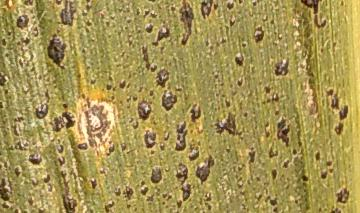tarspot: (82, 101, 113, 149), (298, 1, 329, 31), (213, 109, 245, 136), (59, 168, 78, 213), (177, 1, 195, 47), (194, 151, 214, 184), (46, 36, 68, 65), (172, 119, 190, 153), (274, 114, 291, 149), (58, 1, 78, 27), (149, 25, 171, 48), (69, 167, 83, 203), (159, 87, 178, 112), (173, 161, 190, 187), (136, 97, 153, 121), (153, 67, 171, 89), (273, 55, 291, 77), (186, 139, 202, 162), (139, 45, 152, 73), (58, 111, 77, 130), (142, 128, 158, 150), (334, 185, 351, 205), (187, 102, 202, 124), (251, 21, 265, 44), (50, 114, 66, 134), (148, 164, 164, 184), (34, 102, 50, 121), (199, 1, 215, 20), (178, 181, 193, 201), (265, 140, 280, 160), (1, 177, 13, 201), (258, 92, 280, 105), (15, 13, 30, 31), (231, 50, 246, 68), (121, 183, 135, 201), (27, 151, 43, 166), (101, 197, 116, 213), (329, 92, 341, 112), (337, 102, 349, 121), (265, 193, 280, 207), (14, 139, 30, 152), (10, 124, 24, 137), (333, 121, 345, 136), (203, 191, 212, 210), (323, 85, 336, 98), (55, 153, 67, 167), (279, 156, 291, 170), (88, 176, 99, 190), (75, 141, 89, 152), (263, 121, 271, 139), (12, 165, 23, 178), (111, 184, 122, 197), (234, 74, 245, 87), (247, 150, 256, 165), (167, 2, 178, 14), (262, 83, 273, 95), (299, 171, 310, 183), (319, 168, 330, 180), (228, 14, 237, 28), (253, 191, 264, 202), (43, 88, 51, 103), (41, 172, 51, 184), (54, 144, 66, 154), (144, 22, 154, 34), (149, 62, 159, 74), (224, 1, 236, 11), (1, 71, 8, 87), (235, 173, 243, 187), (329, 205, 343, 213), (105, 145, 115, 156), (118, 78, 127, 90), (330, 39, 337, 54), (31, 25, 39, 38), (269, 167, 277, 180), (21, 36, 31, 46), (98, 166, 108, 176), (135, 84, 145, 94), (28, 61, 37, 72), (30, 176, 39, 187), (139, 186, 148, 197), (148, 11, 159, 20), (314, 148, 321, 162), (223, 96, 231, 108), (12, 116, 25, 123), (5, 142, 15, 151), (26, 195, 35, 205), (131, 120, 140, 130), (142, 9, 151, 19), (145, 193, 155, 202), (174, 198, 183, 208), (196, 124, 205, 134), (239, 201, 248, 211), (46, 182, 54, 193), (158, 44, 166, 55), (158, 141, 166, 152), (162, 130, 170, 141), (240, 39, 248, 50), (2, 160, 11, 169), (1, 200, 10, 209), (89, 76, 98, 85), (79, 9, 88, 18), (219, 35, 228, 44), (119, 142, 127, 152), (261, 13, 269, 23), (295, 138, 303, 148), (17, 57, 24, 68), (83, 18, 92, 26), (212, 2, 220, 11), (246, 9, 254, 18), (1, 37, 8, 47), (20, 1, 34, 6), (103, 19, 110, 29), (116, 28, 123, 38), (174, 86, 184, 93), (147, 148, 157, 155), (273, 107, 280, 117), (86, 96, 91, 109), (54, 26, 62, 34), (22, 177, 30, 185), (108, 93, 116, 101), (162, 164, 170, 172), (238, 189, 246, 197), (292, 197, 300, 205), (37, 206, 46, 213), (90, 35, 97, 44), (110, 84, 117, 93), (132, 93, 139, 102), (224, 146, 231, 155), (271, 206, 280, 213), (291, 147, 298, 156), (105, 81, 111, 91), (251, 1, 261, 7), (5, 30, 13, 37), (48, 135, 55, 143), (75, 71, 82, 79), (108, 13, 116, 20), (122, 24, 130, 31), (107, 73, 114, 81), (125, 102, 132, 110), (242, 110, 249, 118), (206, 121, 214, 128), (277, 33, 284, 41), (272, 39, 279, 47), (325, 160, 333, 167), (327, 167, 334, 175), (140, 179, 146, 188), (85, 26, 91, 35), (125, 94, 131, 103), (198, 197, 204, 206), (318, 46, 324, 55), (135, 6, 140, 16), (3, 51, 10, 58), (61, 102, 68, 109), (107, 139, 114, 146), (125, 202, 132, 209), (79, 47, 86, 54), (85, 4, 92, 11), (99, 12, 106, 19), (125, 82, 132, 89), (182, 95, 189, 102), (238, 134, 245, 141), (269, 18, 276, 25), (255, 175, 262, 182), (315, 206, 322, 213), (37, 74, 43, 82), (80, 91, 86, 99), (89, 205, 95, 213), (125, 18, 133, 24), (148, 89, 154, 97), (136, 27, 142, 35), (153, 185, 161, 191), (203, 39, 209, 47), (228, 81, 234, 89), (246, 178, 252, 186), (337, 1, 345, 7), (15, 39, 21, 46), (59, 64, 66, 70), (3, 88, 9, 95), (13, 207, 20, 213), (85, 63, 91, 70), (128, 116, 134, 123), (213, 72, 219, 79), (237, 165, 244, 171), (248, 146, 255, 152), (22, 208, 30, 213), (165, 194, 173, 199), (186, 198, 194, 203), (302, 185, 307, 193), (54, 1, 63, 5), (2, 118, 8, 124), (117, 7, 123, 13), (157, 5, 163, 11), (161, 193, 167, 199), (168, 207, 174, 213), (214, 92, 220, 98), (218, 81, 224, 87), (208, 44, 214, 50), (301, 180, 307, 186), (56, 137, 61, 144), (106, 34, 113, 39), (175, 208, 182, 213), (189, 128, 194, 135), (1, 99, 4, 110), (84, 1, 92, 5), (61, 139, 66, 145), (118, 99, 123, 105), (161, 19, 167, 24), (159, 200, 165, 205), (237, 1, 244, 5), (148, 1, 157, 4), (22, 121, 27, 126), (273, 29, 278, 34), (35, 1, 39, 7), (1, 29, 5, 34), (274, 192, 278, 197), (83, 103, 87, 107), (242, 162, 245, 166), (1, 163, 2, 170)
